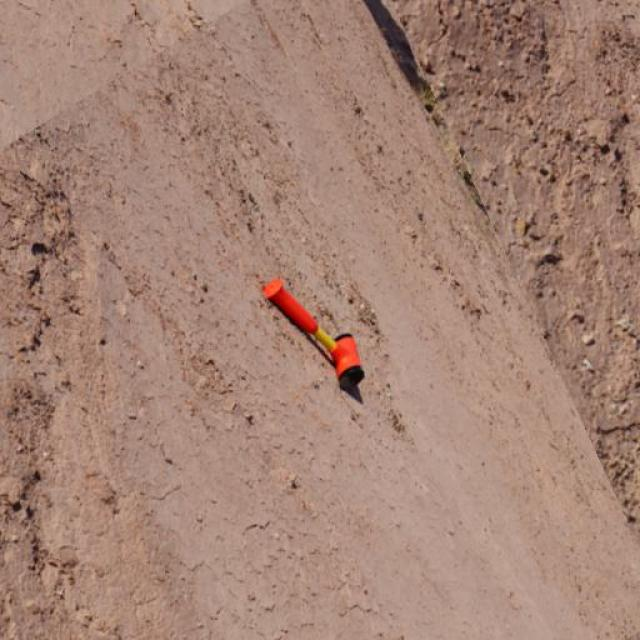mallet: (260, 276, 365, 404)
